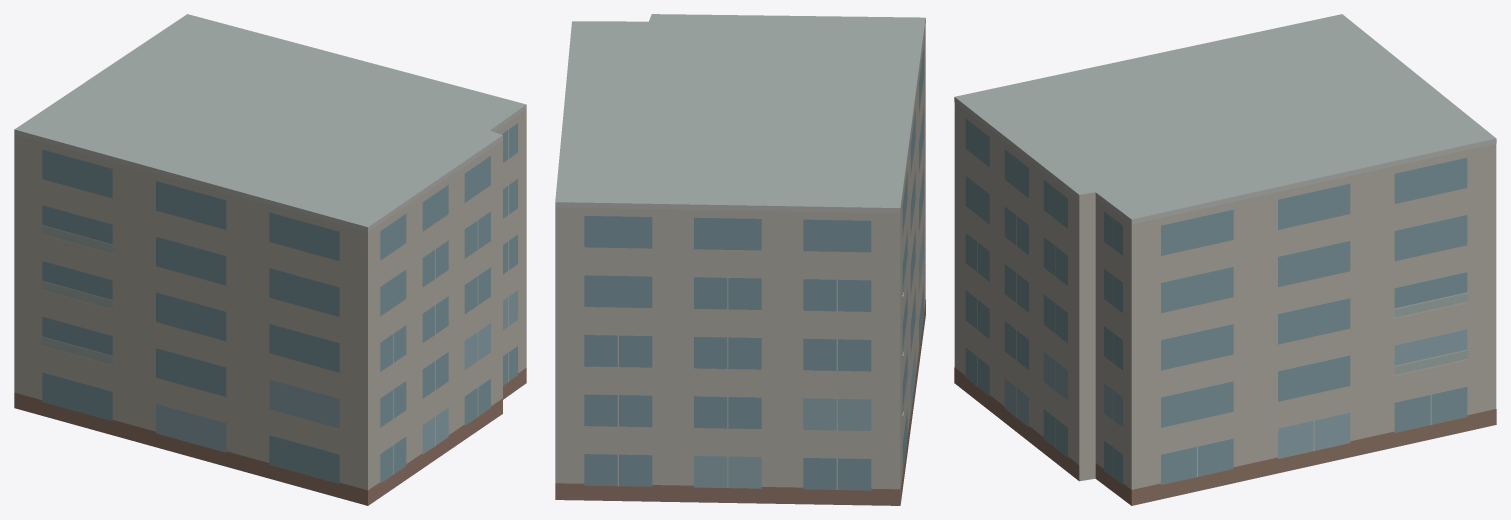
File: survey-upis-32977760.glb
3 views of the same model, side by side, from view 1: azimuth 30°, elevation 25°; view 2: azimuth 150°, elevation 25°; view 3: azimuth 270°, elevation 25° (orthographic). The views are drawn at different scales.
Visible parts, largest first — view 1: survey-upis-32977760.tmp; view 2: survey-upis-32977760.tmp; view 3: survey-upis-32977760.tmp.
Boxes of the visible parts, <box> form: survey-upis-32977760.tmp: <box>14,14,526,505</box>; survey-upis-32977760.tmp: <box>555,14,925,505</box>; survey-upis-32977760.tmp: <box>954,14,1496,505</box>.
Size of the model in its own units: 21.25 by 13.8 by 23.68.
